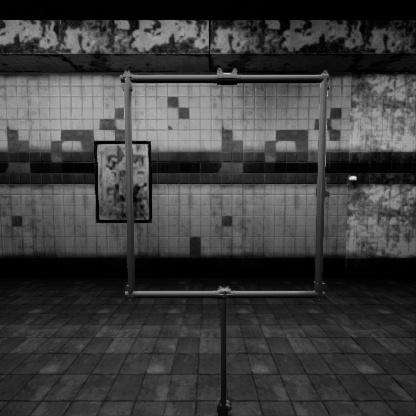gate: (124, 116, 346, 341)
